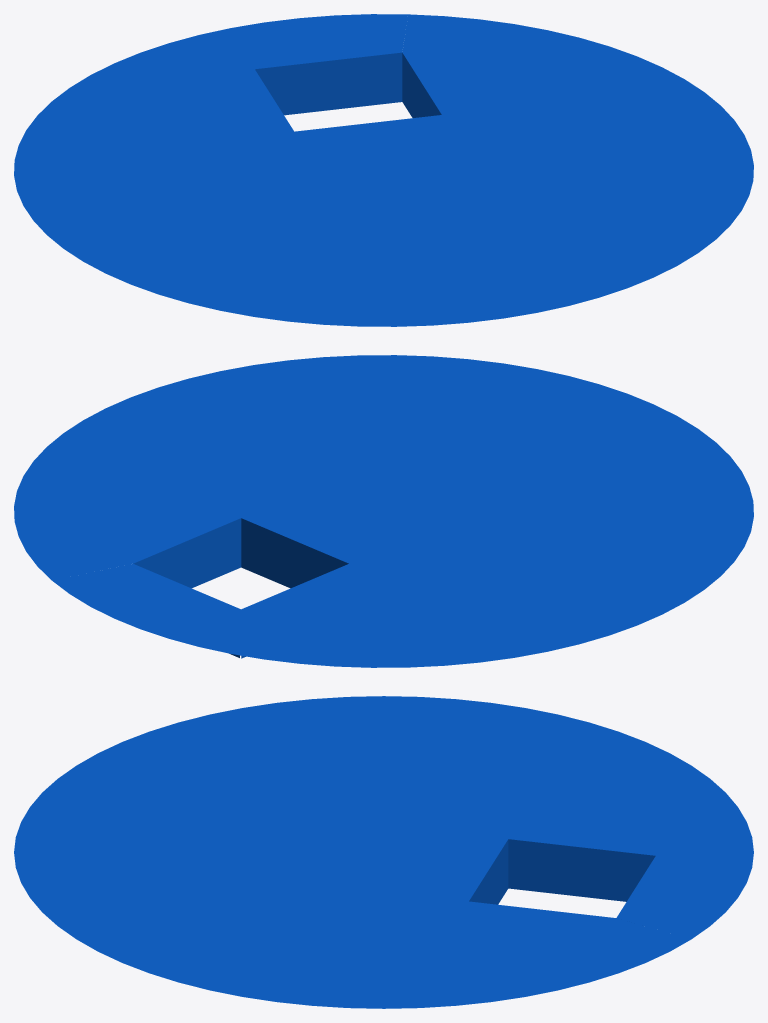
Rendered from HutRoofFloor.fbx.
3 renders of one model, top to bottom at view 1: azimuth 30°, elevation 25°; view 2: azimuth 150°, elevation 25°; view 3: azimuth 270°, elevation 25°, orthographic.
Parts seen in each view (by area): view 1: HutRoofFloor; view 2: HutRoofFloor; view 3: HutRoofFloor.
Part boxes in pixels (x1,y1,x2,y2): HutRoofFloor: (14,14,753,326); HutRoofFloor: (14,355,753,667); HutRoofFloor: (14,696,753,1008).
Bounding box in the file's own units: 339 × 25 × 339.
